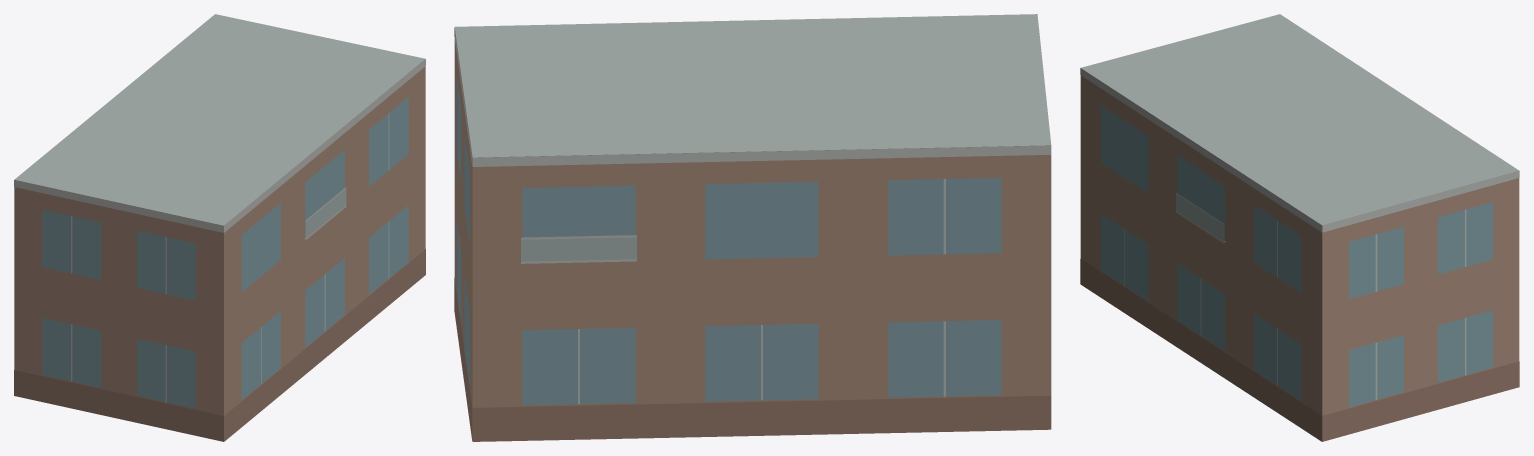
Rendered from survey-upis-32623859.glb.
3 renders of one model, left to right at view 1: azimuth 30°, elevation 25°; view 2: azimuth 150°, elevation 25°; view 3: azimuth 270°, elevation 25°, orthographic. The views are drawn at different scales.
Parts seen in each view (by area): view 1: survey-upis-32623859.tmp; view 2: survey-upis-32623859.tmp; view 3: survey-upis-32623859.tmp.
Part boxes in pixels (x1=…): survey-upis-32623859.tmp: x1=14, y1=14, x2=425, y2=441; survey-upis-32623859.tmp: x1=454, y1=14, x2=1051, y2=441; survey-upis-32623859.tmp: x1=1080, y1=14, x2=1519, y2=441.
Bounding box in the file's own units: 15.3 × 7.3 × 13.43.
